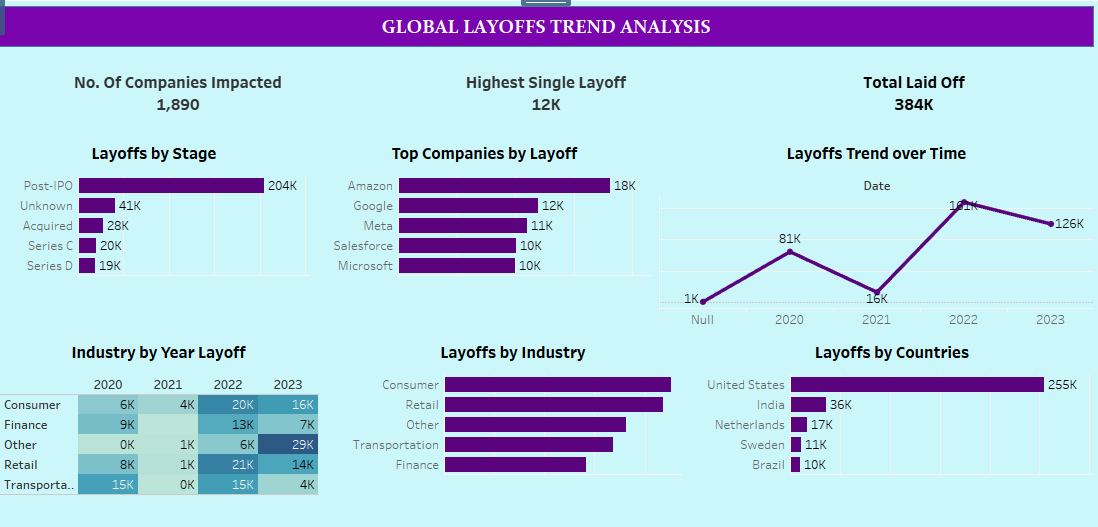

What the dashboard file says about the page in this screenshot:
{"tool":"tableau","page":{"name":"Dashboard 1","canvas":[1000,1000],"units":"permille","ordinal":0},"visuals":[{"type":"text","box":[8,16.1,984,87.2]},{"type":"worksheet","title":"KPI CARD3","mark":"Automatic","box":[8,103.6,328,148.2]},{"type":"worksheet","title":"KPI CARD 2","mark":"Automatic","box":[336,103.6,328,148.2]},{"type":"worksheet","title":"KPI CARD1","mark":"Automatic","box":[664,103.6,328,148.2]},{"type":"worksheet","title":"Layoffs by Stage","mark":"Automatic","rows":["stage"],"cols":["total_laid_off"],"box":[8,250.9,285.2,355.8]},{"type":"worksheet","title":"Layoffs Trend over Time","mark":"Automatic","rows":["total_laid_off"],"cols":["date"],"box":[597.1,250.9,394.8,355.8]},{"type":"worksheet","title":"Top Companies by Layoff","mark":"Automatic","rows":["company"],"cols":["total_laid_off"],"box":[293.2,251.8,303.9,355.4]},{"type":"worksheet","title":"Industry by Year Layoff","mark":"Automatic","rows":["industry"],"cols":["date"],"box":[8,606.7,308.2,377.2]},{"type":"worksheet","title":"Layoffs by Industry","mark":"Automatic","rows":["industry"],"cols":["total_laid_off"],"box":[316.3,606.7,308.3,377.2]},{"type":"worksheet","title":"Layoffs by Countries","mark":"Automatic","rows":["country"],"cols":["total_laid_off"],"box":[624.6,606.7,367.4,377.2]}]}

Visuals, with their boxes on the dashboard's canvas, which has no fixed pixel size, in thousandths of its width and height (x1, y1, x2, y2). These are canvas units, not pixel positions in the 1098x527 screenshot, which may show the page scaled, cropped or inside an application window:
text: bbox(8, 16, 992, 103)
"KPI CARD3" worksheet: bbox(8, 104, 336, 252)
"KPI CARD 2" worksheet: bbox(336, 104, 664, 252)
"KPI CARD1" worksheet: bbox(664, 104, 992, 252)
"Layoffs by Stage" worksheet: bbox(8, 251, 293, 607)
"Layoffs Trend over Time" worksheet: bbox(597, 251, 992, 607)
"Top Companies by Layoff" worksheet: bbox(293, 252, 597, 607)
"Industry by Year Layoff" worksheet: bbox(8, 607, 316, 984)
"Layoffs by Industry" worksheet: bbox(316, 607, 625, 984)
"Layoffs by Countries" worksheet: bbox(625, 607, 992, 984)
